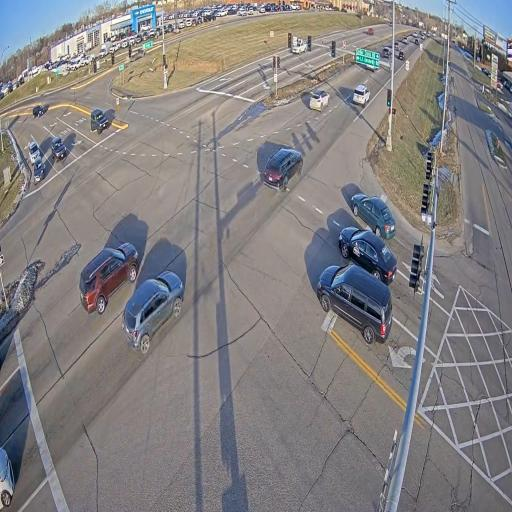pickup: (292, 38, 306, 54)
sedan: (338, 227, 397, 284), (351, 193, 395, 239)
suv: (122, 271, 184, 354), (79, 243, 140, 315), (263, 147, 303, 190), (309, 89, 329, 111), (91, 109, 108, 134), (51, 136, 66, 162), (353, 84, 370, 105), (34, 156, 45, 184), (29, 141, 39, 163), (33, 105, 44, 118), (382, 47, 389, 58), (398, 50, 405, 59), (367, 28, 374, 35), (394, 42, 400, 50), (402, 37, 408, 44), (415, 38, 419, 45), (413, 32, 418, 37), (421, 34, 425, 39)
van: (317, 264, 392, 345), (0, 447, 14, 509)
